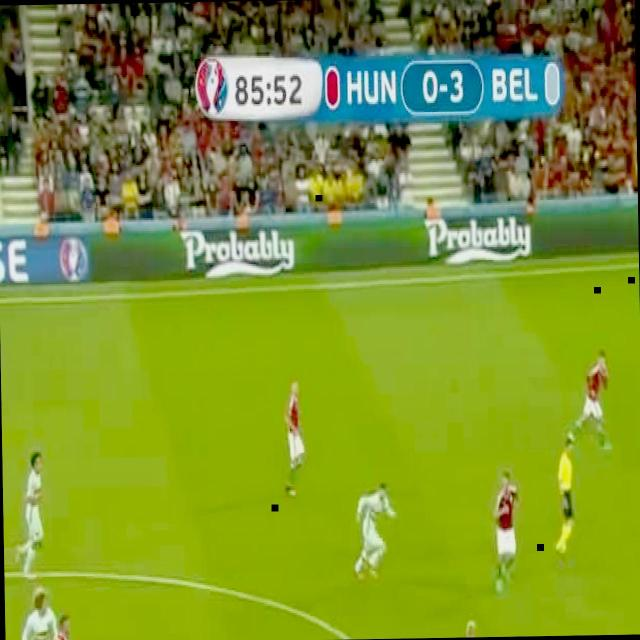player-white: (351, 478, 397, 581), (572, 350, 612, 452), (13, 450, 44, 579), (493, 472, 521, 592), (554, 433, 577, 557), (283, 376, 306, 497), (21, 585, 57, 640), (444, 618, 486, 638), (44, 614, 72, 640)
